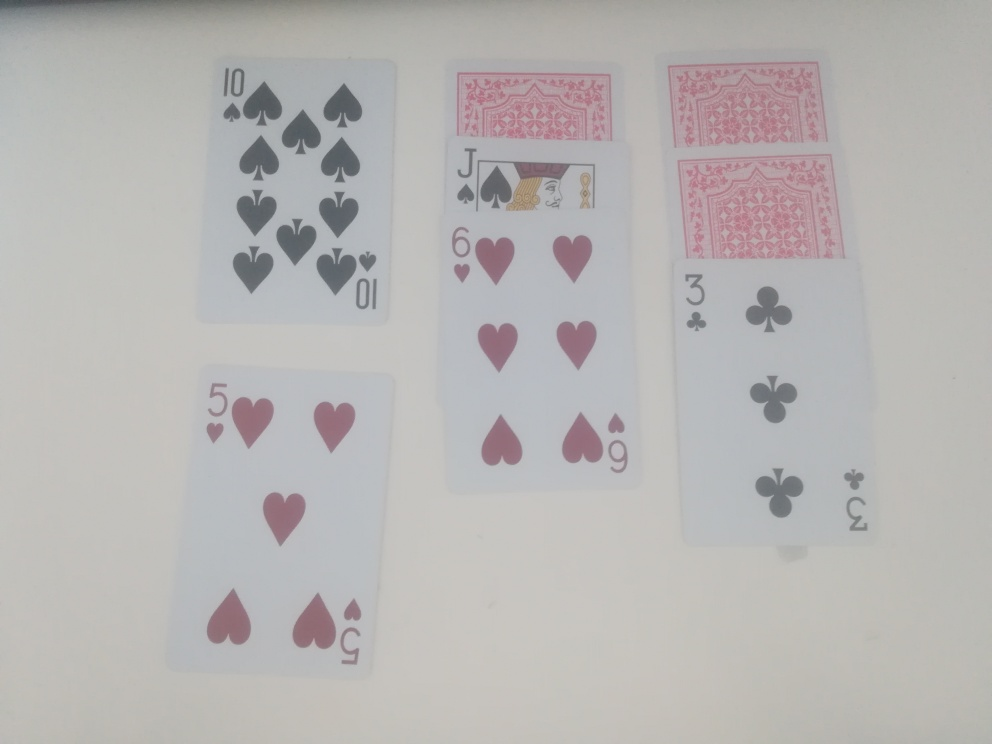10S: (220, 66, 252, 131)
3C: (679, 271, 718, 339)
5H: (204, 380, 230, 449)
6H: (447, 222, 478, 291)
BACK: (673, 154, 848, 261), (666, 58, 833, 144), (451, 69, 618, 143)
JS: (452, 143, 480, 209)
